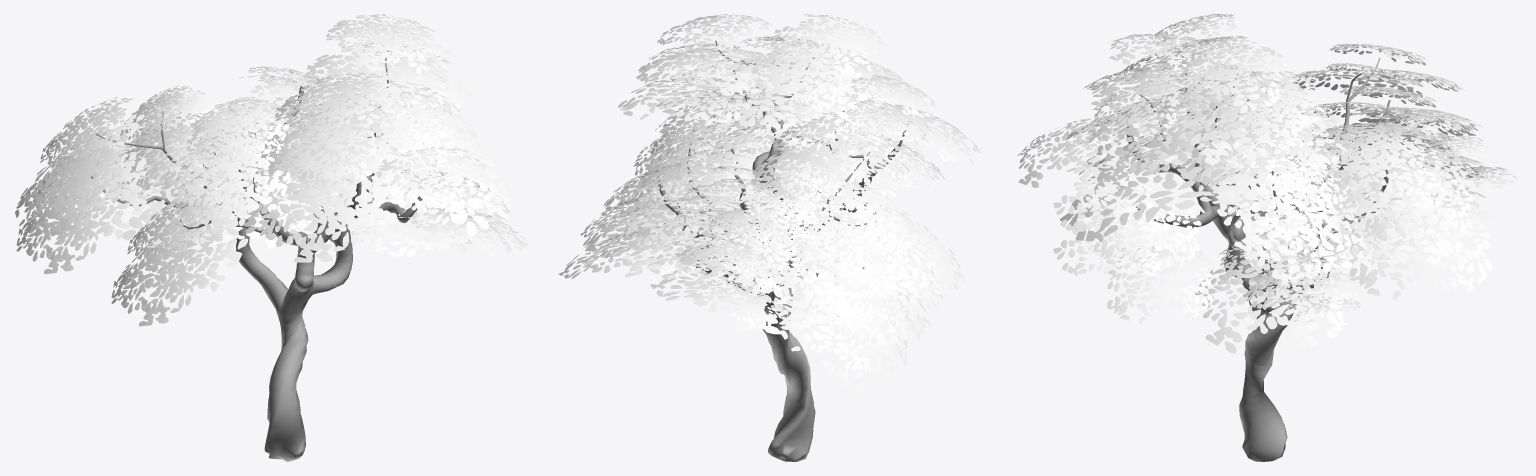
File: Tree_Test_Leaves.fbx
3 views of the same model, side by side, from view 1: azimuth 30°, elevation 25°; view 2: azimuth 150°, elevation 25°; view 3: azimuth 270°, elevation 25° (orthographic). The views are drawn at different scales.
Parts seen in each view (by area): view 1: Tree_Test_Leaves; view 2: Tree_Test_Leaves; view 3: Tree_Test_Leaves.
Boxes of the visible parts, x1,y1,x2,y2 form: Tree_Test_Leaves: (15, 14, 527, 461); Tree_Test_Leaves: (559, 14, 980, 461); Tree_Test_Leaves: (1017, 14, 1518, 461).
Size of the model in its own units: 812 by 817 by 854.
